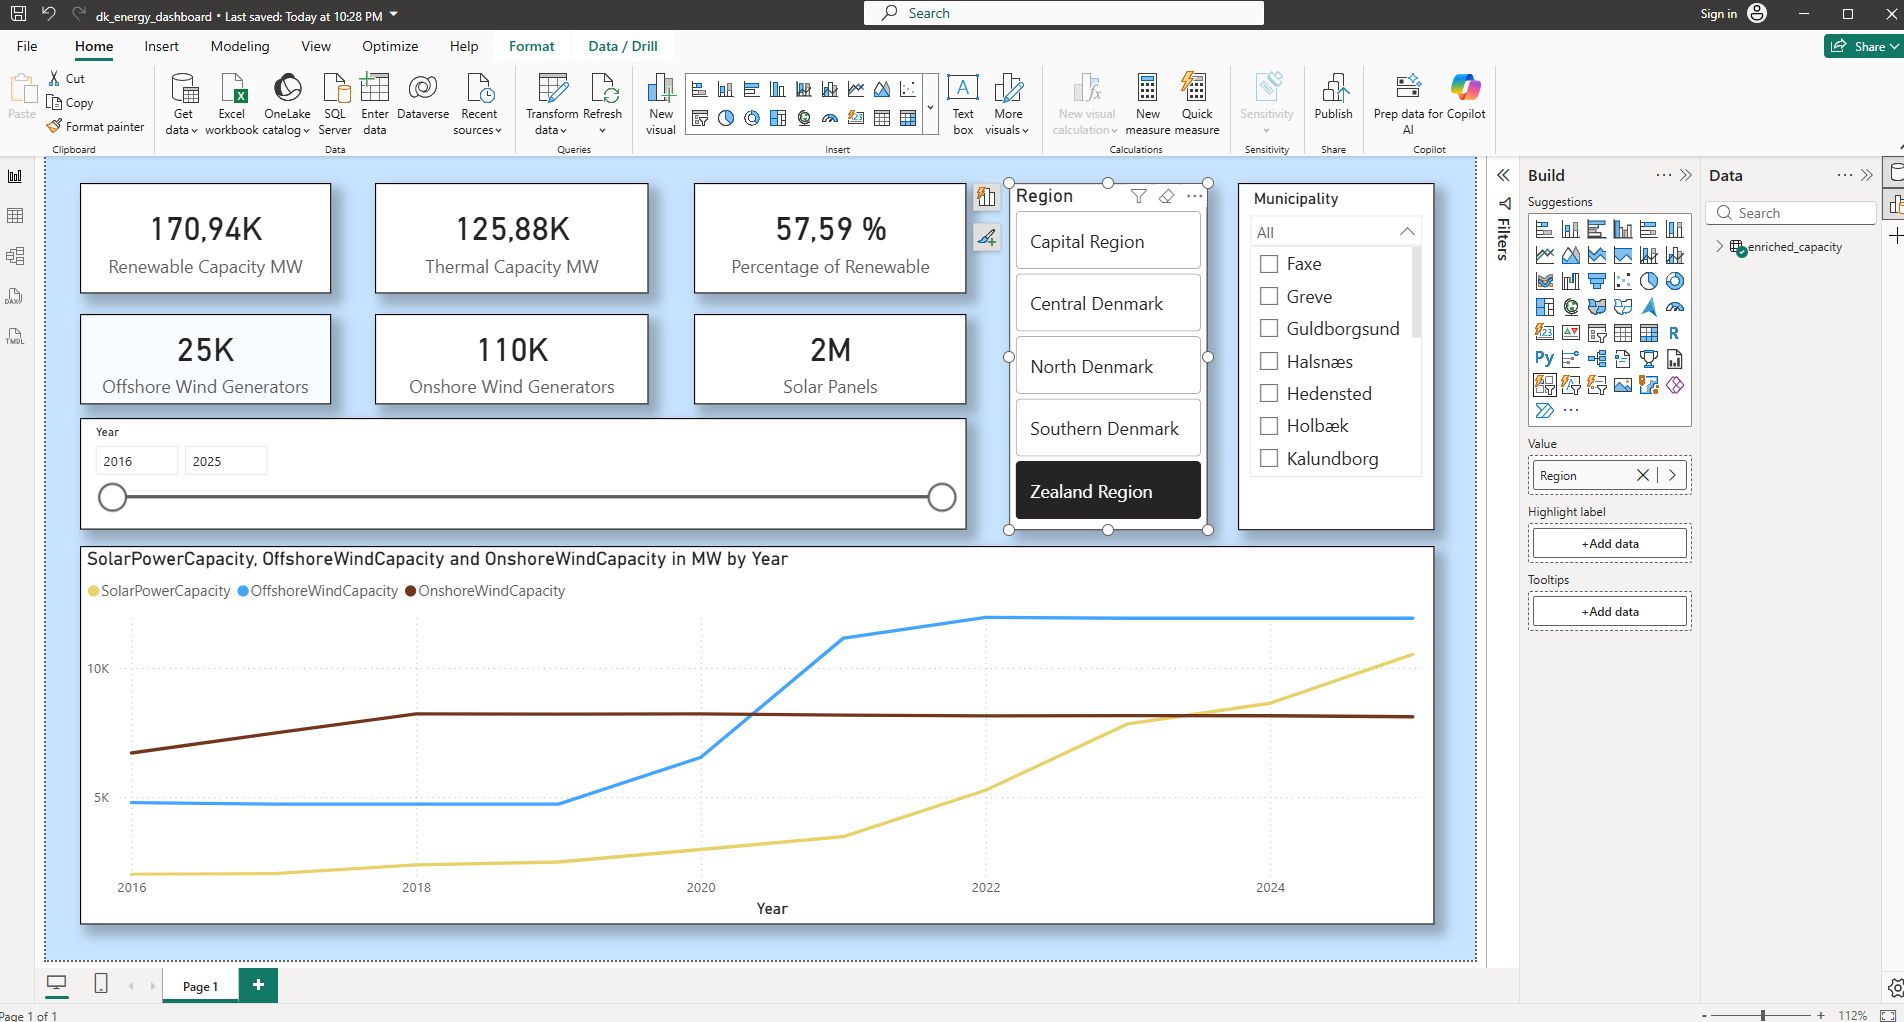

What the dashboard file says about the page in this screenshot:
{"tool":"powerbi","page":{"name":"Page 1","canvas":[1280,720],"ordinal":0},"visuals":[{"type":"card","fields":{"Values":["Sum(enriched_capacity.total_renewable_capacity_mw)"]},"box":[30.4,24.2,224.8,99.4],"z":0},{"type":"card","fields":{"Values":["Sum(enriched_capacity.total_thermal_capacity_mw)"]},"box":[294.6,24.2,245.4,99.4],"z":1000},{"type":"card","fields":{"Values":["enriched_capacity.Sum of total_renewable_capacity_mw % difference from Sum of total_thermal_capacity_mw"]},"box":[580.3,24.2,244.5,99.4],"z":2000},{"type":"lineChart","title":"SolarPowerCapacity, OffshoreWindCapacity and OnshoreWindCapacity in MW by Year","fields":{"Category":["enriched_capacity.Month.Variation.Date Hierarchy.Year"],"Y":["Sum(enriched_capacity.SolarPowerCapacity)","Sum(enriched_capacity.OffshoreWindCapacity)","Sum(enriched_capacity.OnshoreWindCapacity)"]},"box":[30.4,349.3,1212.5,338.5],"z":3000},{"type":"card","fields":{"Values":["Sum(enriched_capacity.Offshore Wind Generators)"]},"box":[30.4,141.5,224.8,80.6],"z":4000},{"type":"card","fields":{"Values":["Sum(enriched_capacity.NumberOnshoreWindGenerators)"]},"box":[294.6,141.5,245.4,80.6],"z":5000},{"type":"card","fields":{"Values":["Sum(enriched_capacity.NumberSolarPanels)"]},"box":[580.3,141.5,244.5,80.6],"z":6000},{"type":"advancedSlicerVisual","fields":{"Values":["enriched_capacity.region_name"]},"box":[862.4,24.2,178.2,310.7],"z":7000},{"type":"slicer","fields":{"Values":["enriched_capacity.Month.Variation.Date Hierarchy.Year"]},"box":[30.4,234.6,794.3,100.3],"z":8000},{"type":"slicer","fields":{"Values":["enriched_capacity.municipality_name"]},"box":[1067.5,24.2,175.5,310.7],"z":8001}]}

Visuals, with their boxes on the page's 1280x720 design canvas (x1, y1, x2, y2). These are canvas units, not pixel positions in the 1904x1022 screenshot, which may show the page scaled, cropped or inside an application window:
card - Sum(enriched_capacity.total_renewable_capacity_mw): pyautogui.locateOnScreen(30, 24, 255, 124)
card - Sum(enriched_capacity.total_thermal_capacity_mw): pyautogui.locateOnScreen(295, 24, 540, 124)
card - enriched_capacity.Sum of total_renewable_capacity_mw % difference from Sum of total_thermal_capacity_mw: pyautogui.locateOnScreen(580, 24, 825, 124)
"SolarPowerCapacity, OffshoreWindCapacity and OnshoreWindCapacity in MW by Year" lineChart: pyautogui.locateOnScreen(30, 349, 1243, 688)
card - Sum(enriched_capacity.Offshore Wind Generators): pyautogui.locateOnScreen(30, 142, 255, 222)
card - Sum(enriched_capacity.NumberOnshoreWindGenerators): pyautogui.locateOnScreen(295, 142, 540, 222)
card - Sum(enriched_capacity.NumberSolarPanels): pyautogui.locateOnScreen(580, 142, 825, 222)
advancedSlicerVisual - enriched_capacity.region_name: pyautogui.locateOnScreen(862, 24, 1041, 335)
slicer - enriched_capacity.Month.Variation.Date Hierarchy.Year: pyautogui.locateOnScreen(30, 235, 825, 335)
slicer - enriched_capacity.municipality_name: pyautogui.locateOnScreen(1068, 24, 1243, 335)
